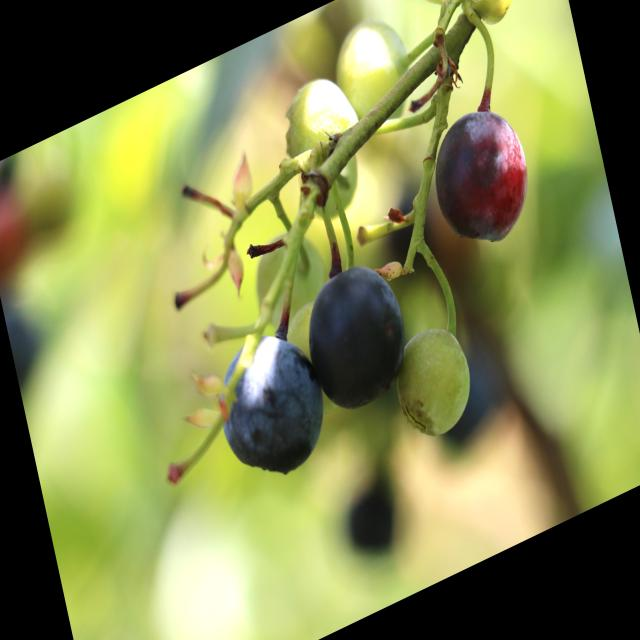blueberry: (202, 307, 338, 508), (293, 242, 421, 430)
blueberry-halfripe: (422, 92, 541, 268)
blueberry-unripe: (386, 311, 482, 452), (328, 3, 417, 139), (273, 65, 361, 180), (492, 0, 566, 20)
